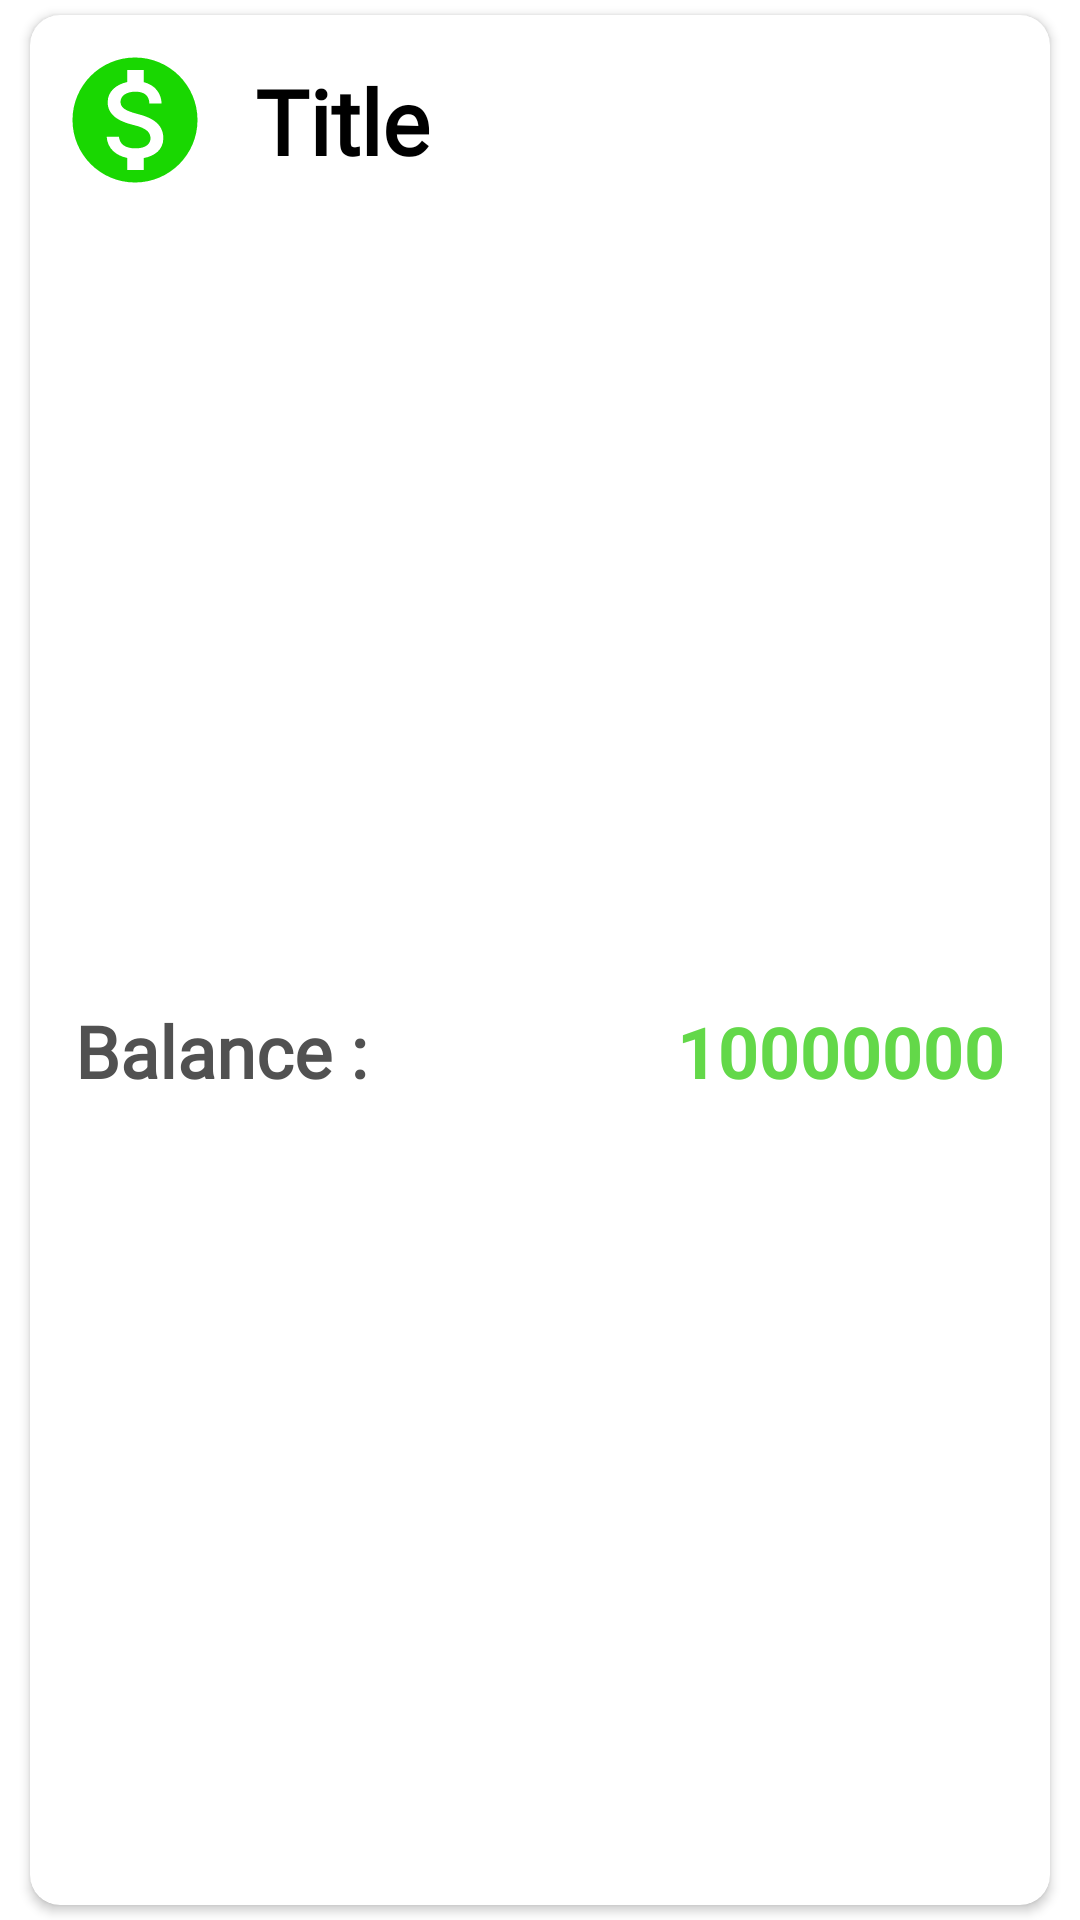

Where to tap for icons on this 1080 x 1920 app screen, as (x,y):
monetization on: (135,120)
